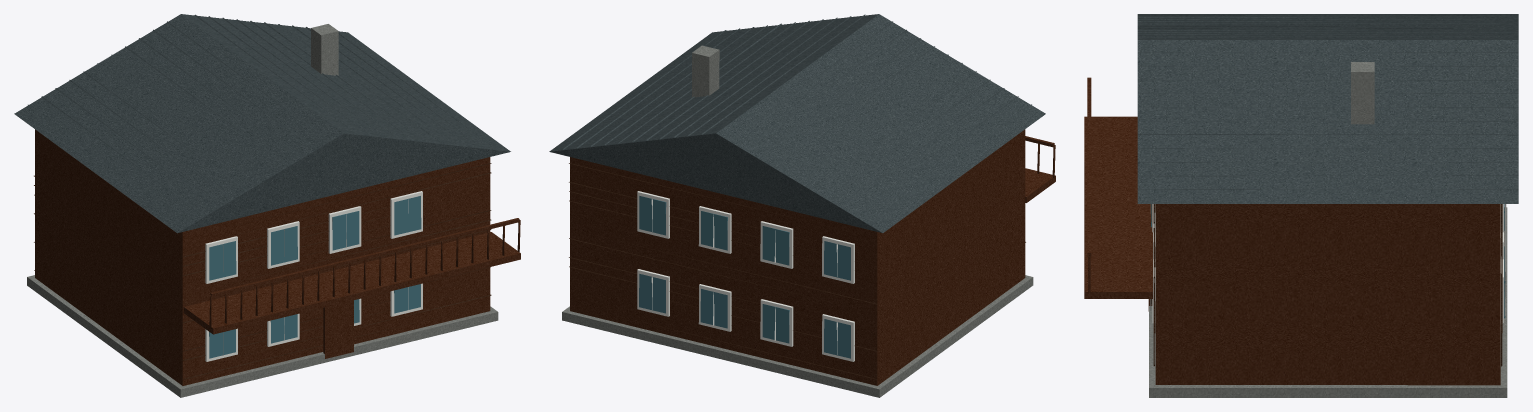
File: House_Chalet_LOD2.glb
3 renders of one model, left to right at view 1: azimuth 30°, elevation 25°; view 2: azimuth 150°, elevation 25°; view 3: azimuth 270°, elevation 25°, orthographic. The views are drawn at different scales.
Visible parts, largest first — view 1: House_Chalet_export; view 2: House_Chalet_export; view 3: House_Chalet_export.
Part boxes in pixels (x1,y1,x2,y2): House_Chalet_export: [14, 14, 520, 397]; House_Chalet_export: [549, 14, 1055, 397]; House_Chalet_export: [1084, 14, 1518, 397].
Bounding box in the file's own units: 13 × 9.07 × 12.54.
Materials: 6 (4 with a texture image).
